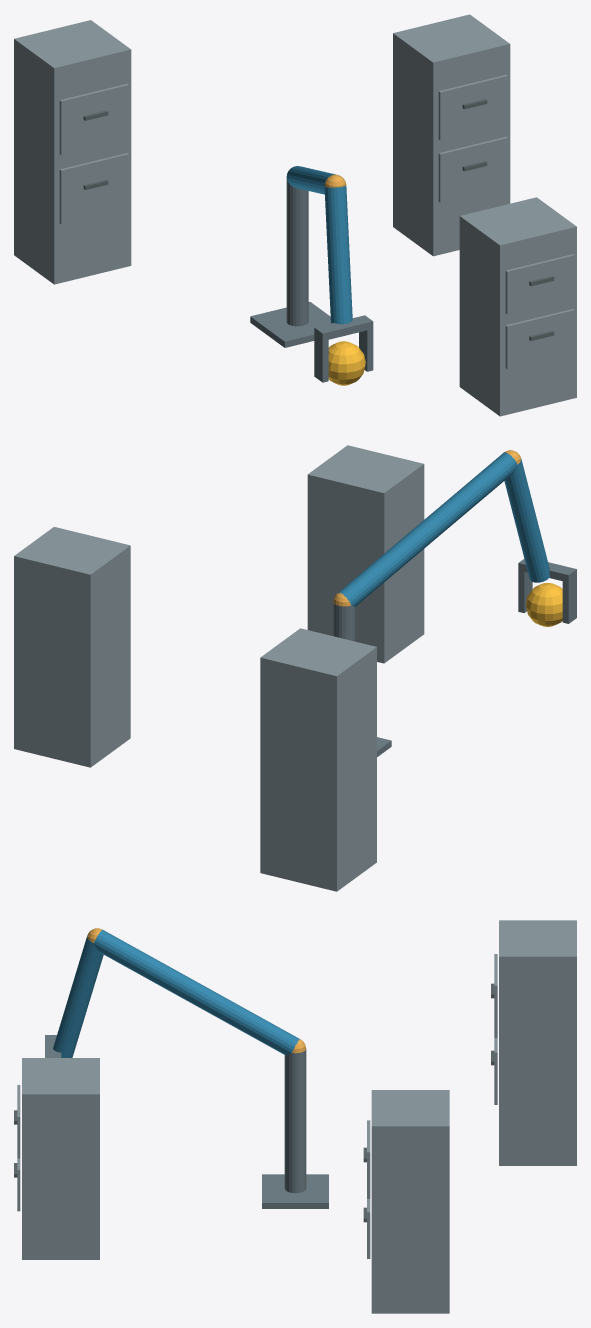
3 views of the same model, one above another, from view 1: azimuth 30°, elevation 25°; view 2: azimuth 150°, elevation 25°; view 3: azimuth 270°, elevation 25° (orthographic). The views are drawn at different scales.
Visible parts, largest first — view 1: cabinet_3 body, cabinet_2 body, cabinet_1 body, cabinet_3 drawer front.001, cabinet_3 drawer front, cabinet_2 drawer front.001, cabinet_2 drawer front, fixed post, moving link 2, cabinet_1 drawer front, cabinet_1 drawer front.001, pedestal (+4 smaller); view 2: cabinet_3 body, cabinet_2 body, cabinet_1 body, moving link 1, moving link 2, ball ball_1, fixed post, gripper finger -1; view 3: cabinet_3 body, cabinet_2 body, cabinet_1 body, moving link 1, fixed post, moving link 2, pedestal.
Part boxes in pixels (x1=…): cabinet_3 body: x1=14, y1=20, x2=131, y2=284; cabinet_2 body: x1=393, y1=14, x2=510, y2=256; cabinet_1 body: x1=459, y1=197, x2=576, y2=416; cabinet_3 drawer front.001: x1=59, y1=83, x2=128, y2=155; cabinet_3 drawer front: x1=59, y1=153, x2=128, y2=224; cabinet_2 drawer front.001: x1=438, y1=74, x2=507, y2=140; cabinet_2 drawer front: x1=438, y1=136, x2=507, y2=202; fixed post: x1=286, y1=178, x2=308, y2=326; moving link 2: x1=324, y1=185, x2=352, y2=324; cabinet_1 drawer front: x1=505, y1=309, x2=574, y2=369; cabinet_1 drawer front.001: x1=505, y1=254, x2=574, y2=314; pedestal: x1=250, y1=302, x2=330, y2=347; cabinet_3 body: x1=260, y1=628, x2=376, y2=891; cabinet_2 body: x1=14, y1=527, x2=130, y2=767; cabinet_1 body: x1=307, y1=445, x2=424, y2=663; moving link 1: x1=338, y1=452, x2=517, y2=606; moving link 2: x1=504, y1=458, x2=549, y2=582; ball ball_1: x1=525, y1=583, x2=562, y2=626; fixed post: x1=333, y1=602, x2=355, y2=641; gripper finger -1: x1=562, y1=577, x2=576, y2=623; cabinet_3 body: x1=499, y1=920, x2=576, y2=1165; cabinet_2 body: x1=371, y1=1090, x2=449, y2=1313; cabinet_1 body: x1=22, y1=1058, x2=99, y2=1259; moving link 1: x1=94, y1=929, x2=300, y2=1054; fixed post: x1=284, y1=1049, x2=306, y2=1193; moving link 2: x1=53, y1=936, x2=103, y2=1057; pedestal: x1=262, y1=1174, x2=328, y2=1208.
Size of the model in its own units: 1.62 by 0.966 by 2.1.
